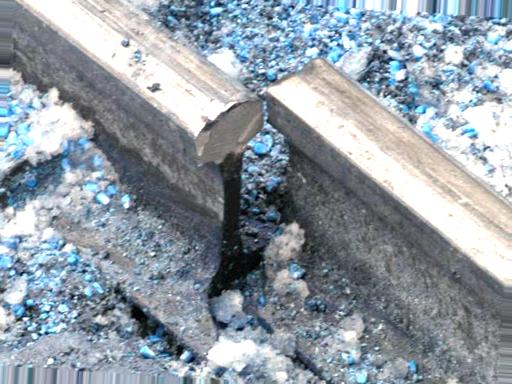tracks_fault: (139, 32, 347, 369)
